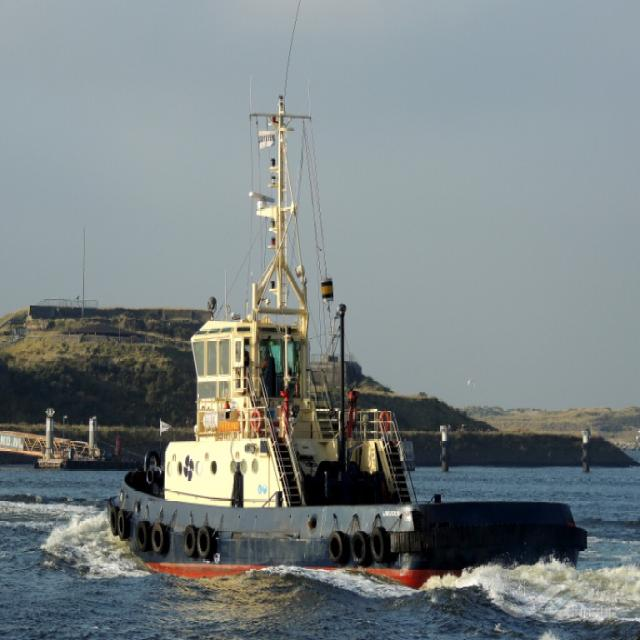tugboat: (107, 108, 586, 584)
